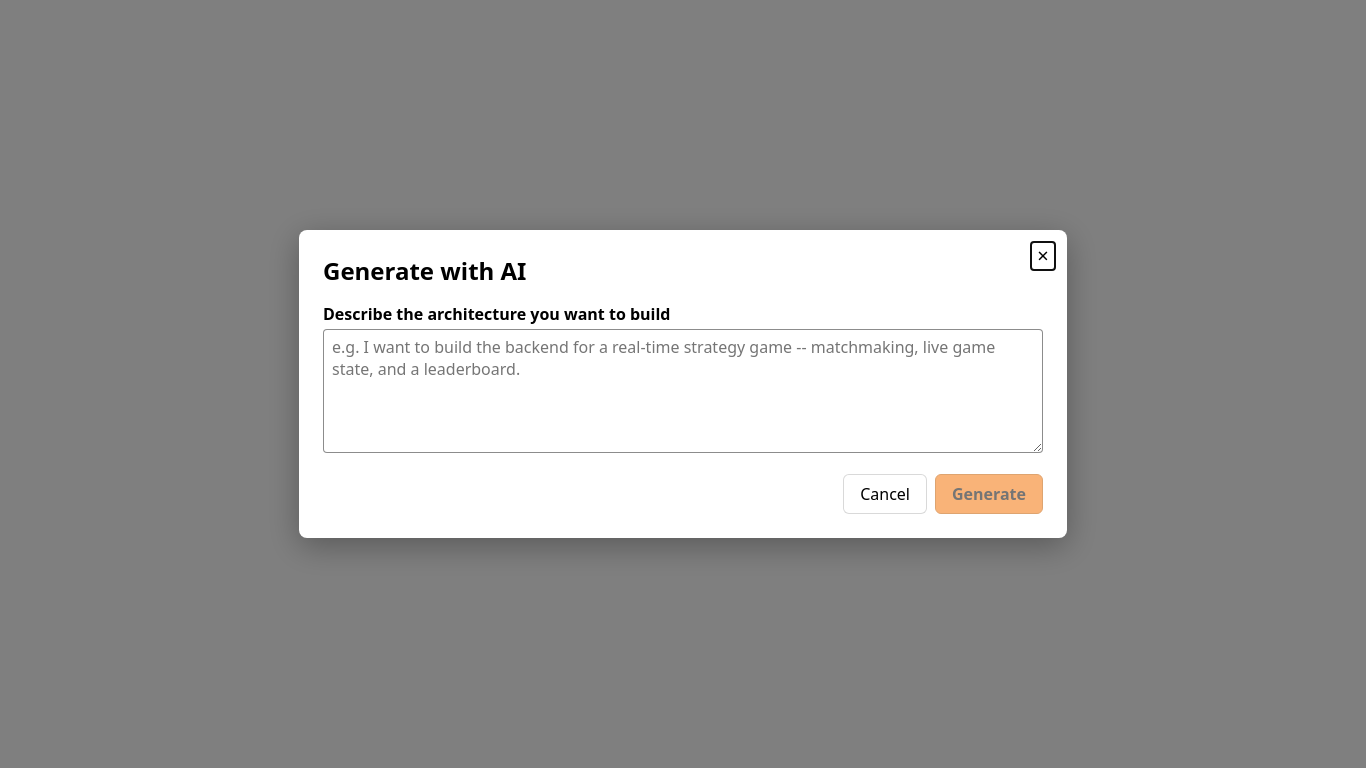
Test case: GenerateWithAiModal › creates a diagram, opens a socket, and sends the synthesized prompt once connected
Replace the text in the text box labelled "Describe the architecture you want to build" with "A real-time strategy game backend". click: (683, 391)
box: [323,329,1043,453]
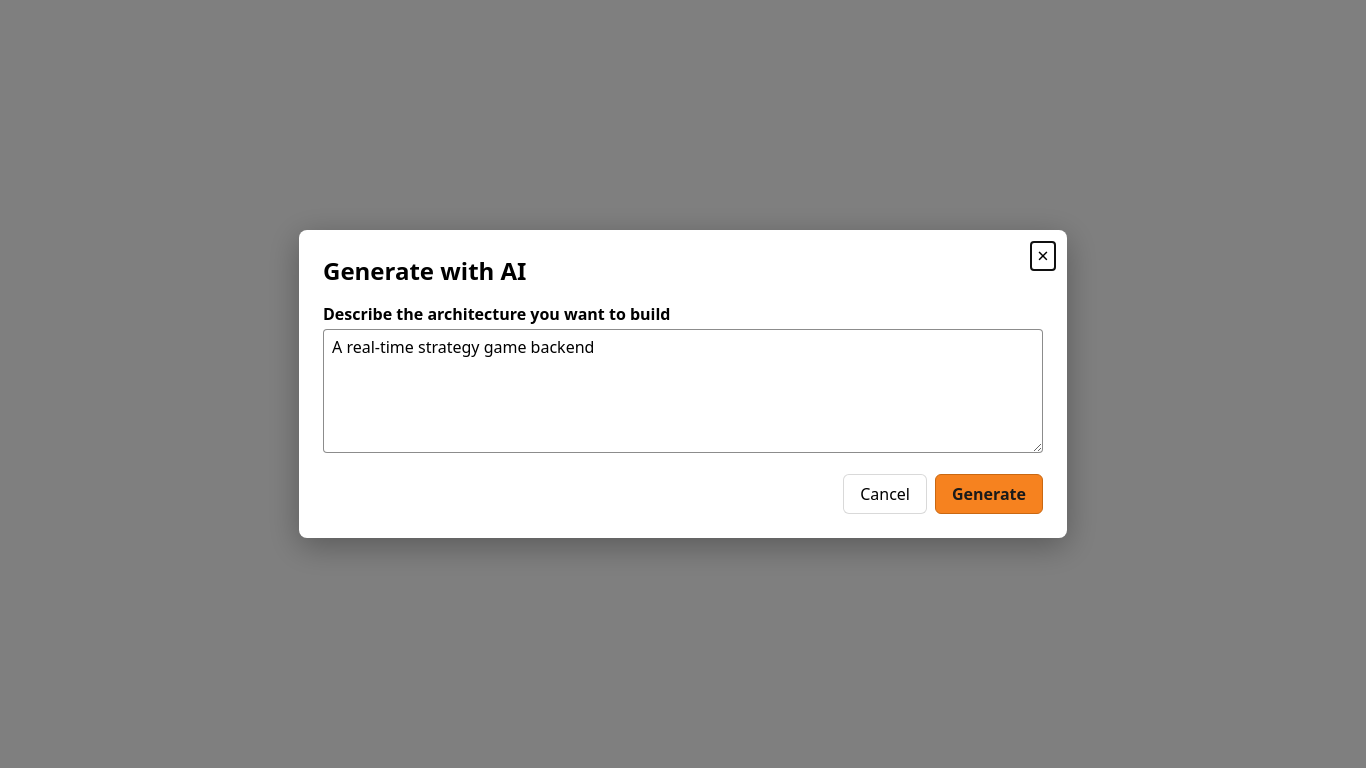
Click the button "Generate". click: (989, 494)
box: [935,474,1043,514]
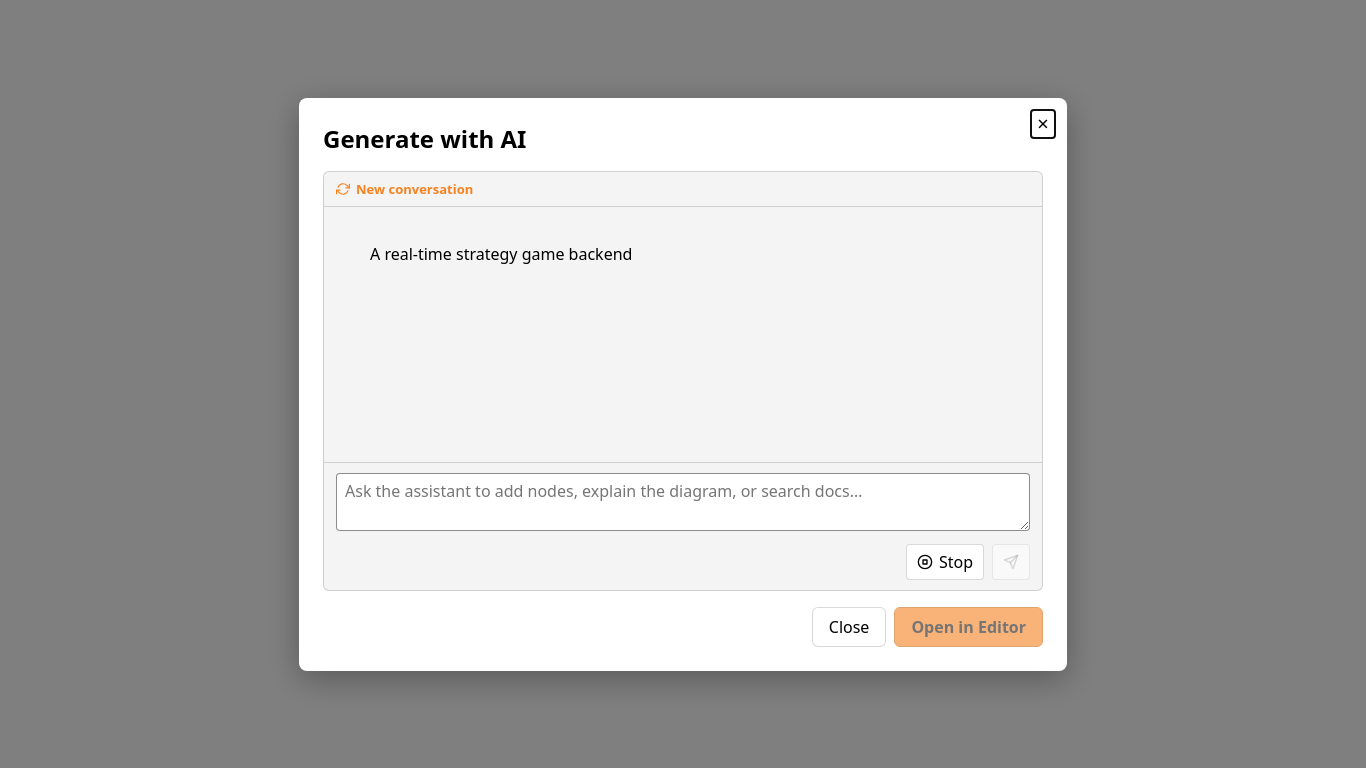
Now the label labelled "Describe the architecture you want to build" is gone
Now the element showing "A real-time strategy game backend" is shown, box [360,218,1030,288]
